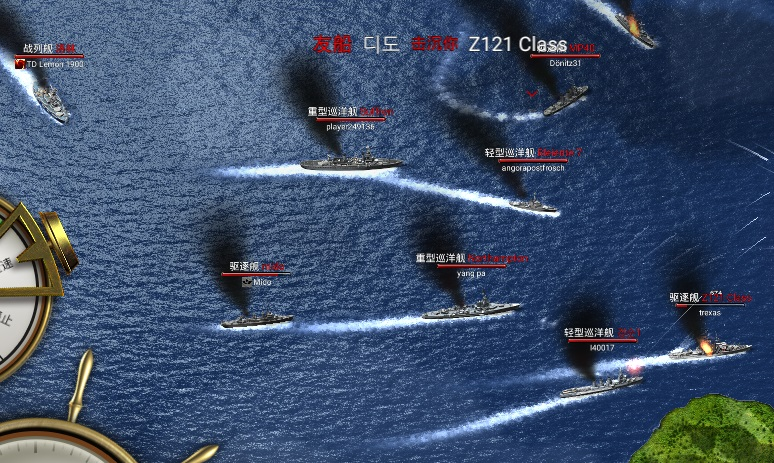ship: (297, 148, 404, 179), (562, 371, 647, 401), (425, 299, 525, 324), (672, 334, 755, 364), (30, 77, 70, 128), (611, 12, 660, 50), (219, 310, 298, 333), (545, 83, 591, 120), (503, 193, 562, 217)
